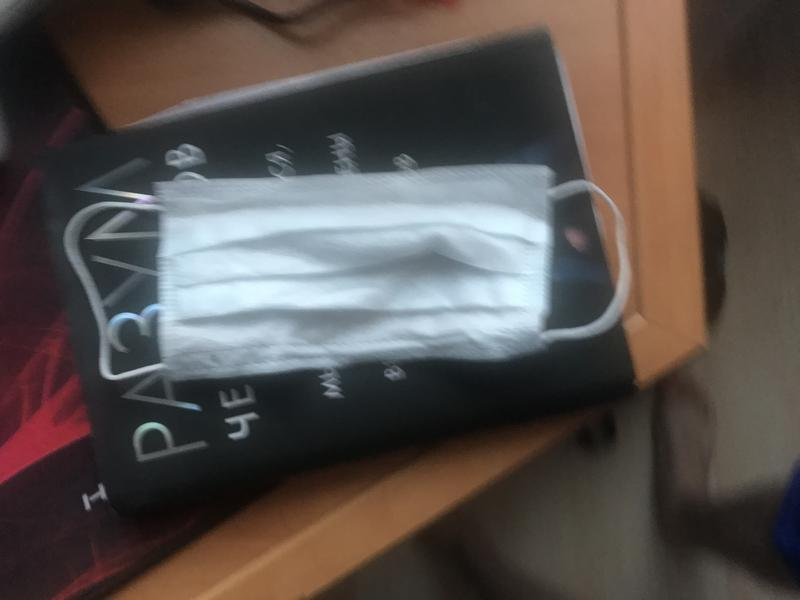medical_mask: (67, 178, 629, 382)
